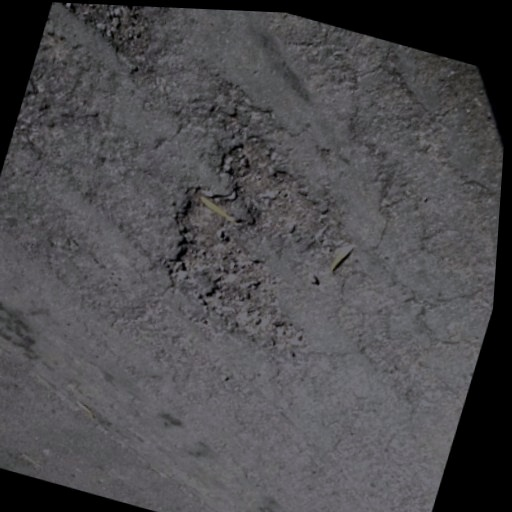pothole: (136, 125, 374, 364), (40, 2, 172, 70)
